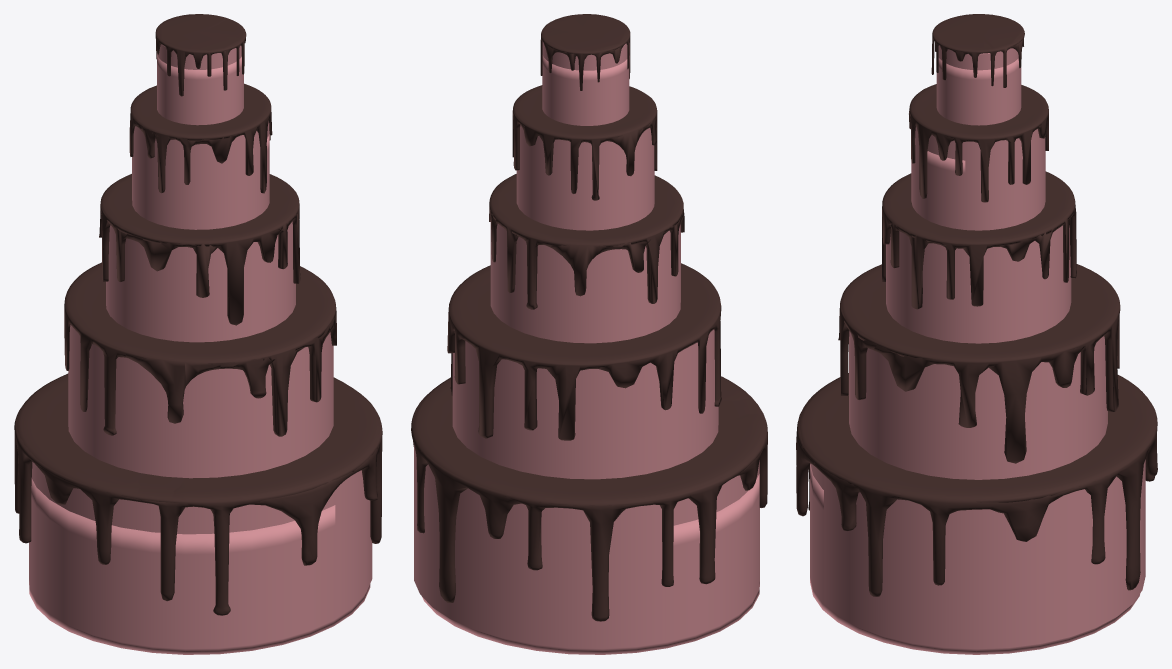
The model's file is 5-tier-blush-ganache-none.glb.
3 renders of one model, left to right at view 1: azimuth 30°, elevation 25°; view 2: azimuth 150°, elevation 25°; view 3: azimuth 270°, elevation 25°, orthographic.
Visible parts, largest first — view 1: 3.004, tHE ICING.014, Cylinder.001, tHE ICING.012, Cylinder.002, tHE ICING.011, Cylinder.003, tHE ICING.010, 1.001, Cylinder, tHE ICING.013; view 2: Cylinder, tHE ICING.014, Cylinder.001, tHE ICING.012, Cylinder.002, 3.004, Cylinder.003, tHE ICING.011, tHE ICING.010, 1.001, tHE ICING.013; view 3: Cylinder, tHE ICING.014, Cylinder.001, tHE ICING.012, Cylinder.002, tHE ICING.011, tHE ICING.010, Cylinder.003, 1.001, tHE ICING.013, 3.004, 2.001.
Boxes of the visible parts, x1,y1,x2,y2 form: 3.004: [29, 462, 370, 654]; tHE ICING.014: [14, 373, 382, 615]; Cylinder.001: [68, 325, 333, 478]; tHE ICING.012: [64, 262, 336, 436]; Cylinder.002: [106, 221, 295, 342]; tHE ICING.011: [99, 174, 300, 325]; Cylinder.003: [132, 126, 262, 229]; tHE ICING.010: [129, 83, 272, 193]; 1.001: [157, 44, 243, 125]; Cylinder: [335, 470, 372, 617]; tHE ICING.013: [155, 14, 246, 96]; Cylinder: [414, 445, 664, 648]; tHE ICING.014: [411, 376, 767, 621]; Cylinder.001: [452, 329, 718, 479]; tHE ICING.012: [447, 263, 721, 440]; Cylinder.002: [490, 220, 680, 343]; 3.004: [422, 460, 759, 654]; Cylinder.003: [516, 125, 654, 230]; tHE ICING.011: [489, 174, 684, 309]; tHE ICING.010: [512, 85, 657, 200]; 1.001: [542, 41, 629, 125]; tHE ICING.013: [540, 14, 630, 90]; Cylinder: [824, 459, 1145, 649]; tHE ICING.014: [796, 373, 1157, 596]; Cylinder.001: [849, 331, 1107, 479]; tHE ICING.012: [838, 264, 1120, 463]; Cylinder.002: [886, 225, 1071, 343]; tHE ICING.011: [882, 171, 1076, 309]; tHE ICING.010: [909, 84, 1048, 202]; Cylinder.003: [911, 126, 1045, 230]; 1.001: [936, 45, 1021, 125]; tHE ICING.013: [931, 14, 1024, 87]; 3.004: [810, 463, 1139, 654]; 2.001: [922, 135, 965, 229].
Size of the model in its own units: 6.02 by 10.1 by 6.02.
